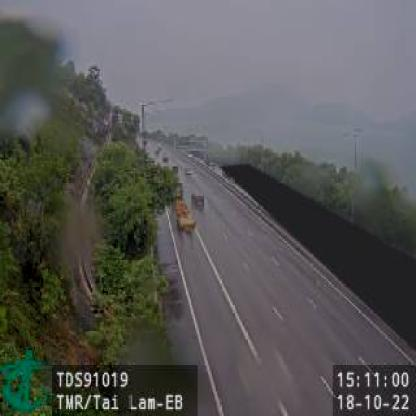Car: (193, 191, 206, 210)
Truck: (172, 196, 198, 236)
